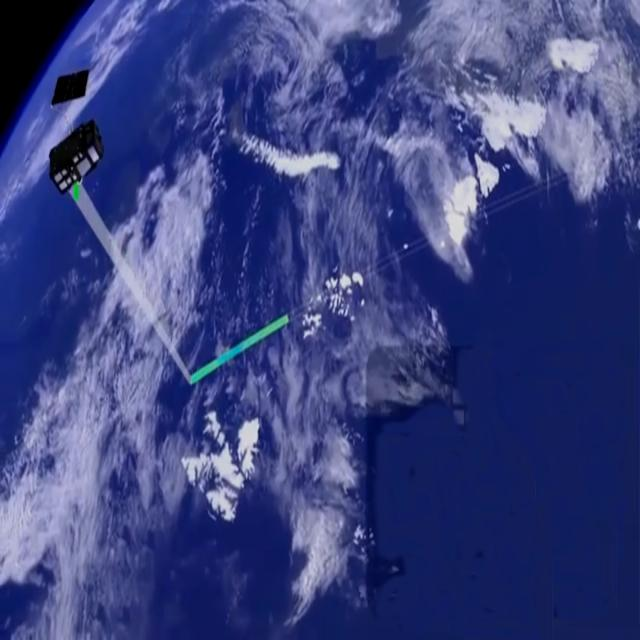medium_debris: (46, 119, 108, 205), (48, 66, 90, 106)
